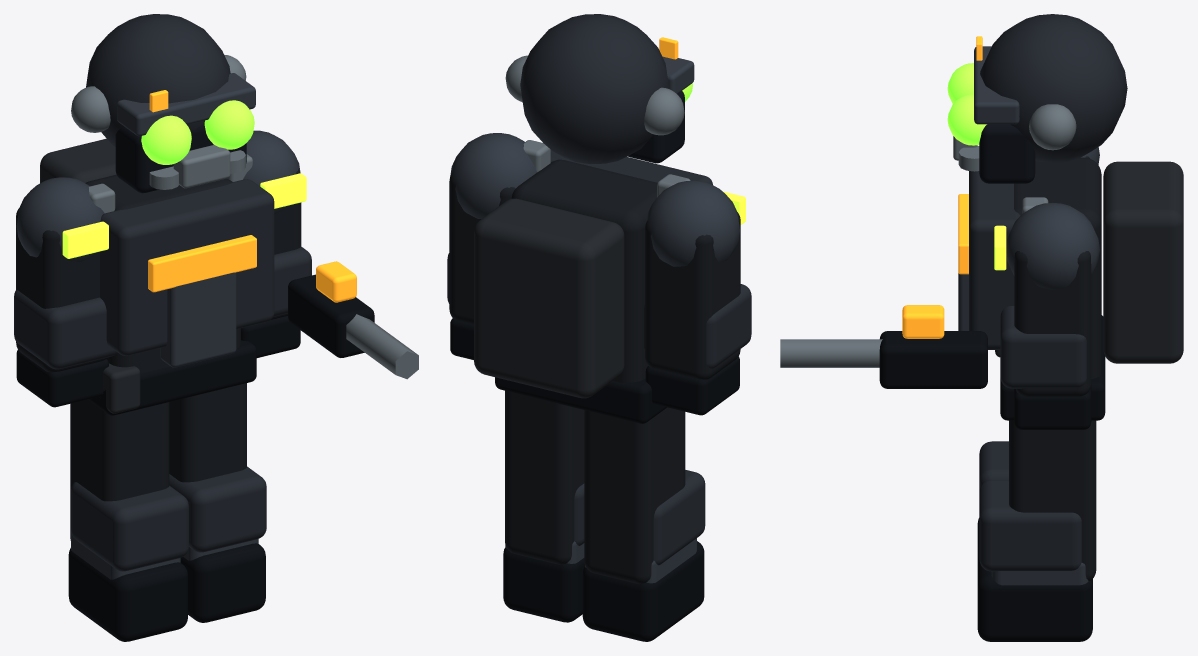
The model's file is assault_l01.glb.
3 views of the same model, side by side, from view 1: azimuth 30°, elevation 25°; view 2: azimuth 150°, elevation 25°; view 3: azimuth 270°, elevation 25° (orthographic). The views are drawn at different scales.
Parts seen in each view (by area): view 1: segmented_vest, trouser (×2), shaped_knee_guard (×2), boot (×2), rounded_helmet, forearm_plate (×2), shoulder_joint (×2), sleeve (×2), front_plate, glove (×2), belt, carbine_body (+16 smaller); view 2: field_pack, trouser (×2), rounded_helmet, sleeve (×2), boot (×2), shoulder_joint (×2), body, glove (×2), shaped_knee_guard (×2), belt, forearm_plate, helmet_comm (×2) (+5 smaller); view 3: field_pack, rounded_helmet, trouser, shaped_knee_guard (×2), boot, segmented_vest, carbine_body, shoulder_joint, sleeve, body, forearm_plate, enclosed_mask (+12 smaller).
Part boxes in pixels (box(x1,y1,x2,y2)): segmented_vest: box(100, 179, 274, 355); trouser (×2): box(70, 383, 246, 540); shaped_knee_guard (×2): box(71, 466, 266, 571); boot (×2): box(68, 543, 265, 641); rounded_helmet: box(86, 14, 230, 146); forearm_plate (×2): box(14, 247, 311, 369); shoulder_joint (×2): box(16, 130, 300, 261); sleeve (×2): box(16, 169, 301, 372); front_plate: box(160, 272, 236, 367); glove (×2): box(16, 316, 300, 407); belt: box(88, 340, 256, 415); carbine_body: box(288, 274, 374, 357); field_pack: box(474, 198, 624, 398); trouser (×2): box(505, 390, 685, 583); rounded_helmet: box(520, 14, 669, 163); sleeve (×2): box(449, 172, 740, 379); boot (×2): box(503, 541, 704, 641); shoulder_joint (×2): box(450, 133, 739, 266); body: box(511, 159, 657, 382); glove (×2): box(450, 318, 739, 415); shaped_knee_guard (×2): box(574, 470, 705, 565); belt: box(495, 377, 666, 423); forearm_plate: box(644, 284, 751, 368); helmet_comm (×2): box(505, 55, 684, 135); field_pack: box(1103, 161, 1183, 363); rounded_helmet: box(980, 14, 1127, 162); trouser: box(1009, 420, 1096, 580); shaped_knee_guard (×2): box(979, 441, 1081, 571); boot: box(977, 556, 1092, 641); segmented_vest: box(969, 171, 1020, 349); carbine_body: box(879, 331, 987, 388); shoulder_joint: box(1006, 202, 1099, 290); sleeve: box(1014, 251, 1091, 396); body: box(1014, 157, 1101, 378); forearm_plate: box(1000, 306, 1086, 388); enclosed_mask: box(979, 124, 1035, 183).
Bounding box in the file's own units: 0.91 × 1.86 × 1.16.
